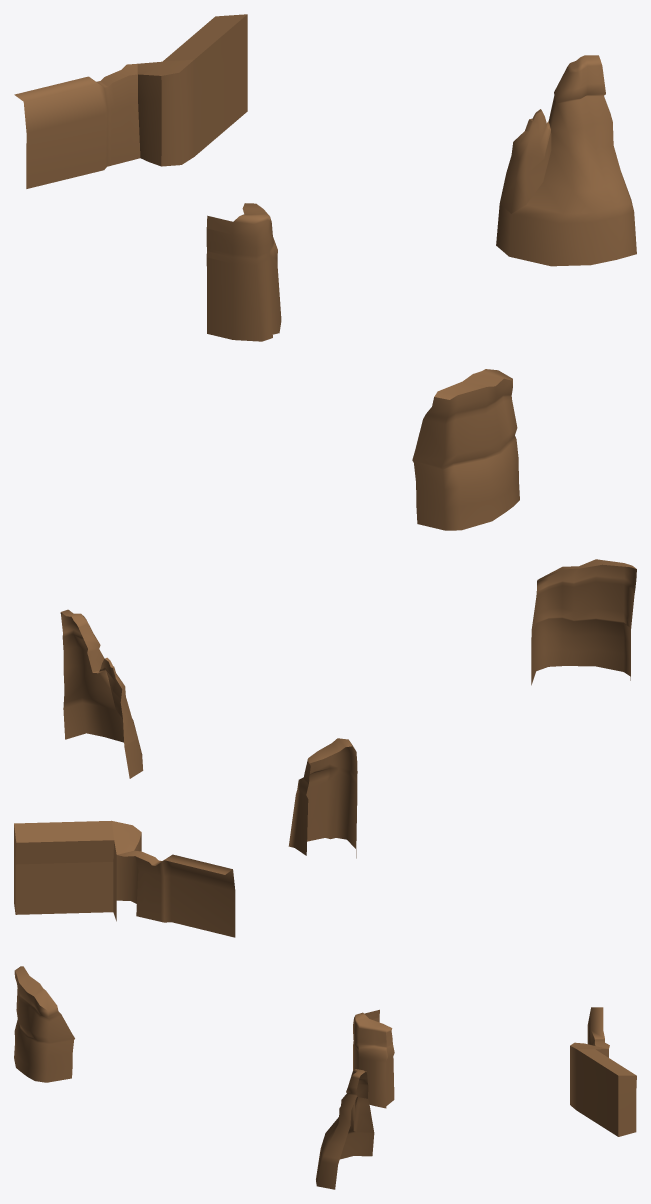
File: MidGroundMountains.fbx
3 renders of one model, top to bottom at view 1: azimuth 30°, elevation 25°; view 2: azimuth 150°, elevation 25°; view 3: azimuth 270°, elevation 25°, orthographic. The views are drawn at different scales.
Visible parts, largest first — view 1: FarMtnRidge, RMtnBack, LMtnMid, BackLMnt; view 2: FarMtnRidge, LMtnMid, RMtnBack, BackLMnt; view 3: FarMtnRidge, LMtnMid, RMtnBack, BackLMnt.
Part boxes in pixels (bbox=[...]): FarMtnRidge: bbox=[14, 14, 247, 188]; RMtnBack: bbox=[496, 55, 636, 266]; LMtnMid: bbox=[412, 369, 519, 530]; BackLMnt: bbox=[206, 203, 281, 341]; FarMtnRidge: bbox=[14, 820, 235, 937]; LMtnMid: bbox=[531, 559, 636, 685]; RMtnBack: bbox=[60, 609, 143, 778]; BackLMnt: bbox=[288, 738, 357, 858]; FarMtnRidge: bbox=[570, 1007, 636, 1136]; LMtnMid: bbox=[14, 966, 74, 1082]; RMtnBack: bbox=[316, 1069, 374, 1189]; BackLMnt: bbox=[353, 1009, 394, 1108].
Size of the model in its own units: 443 by 184 by 830.
